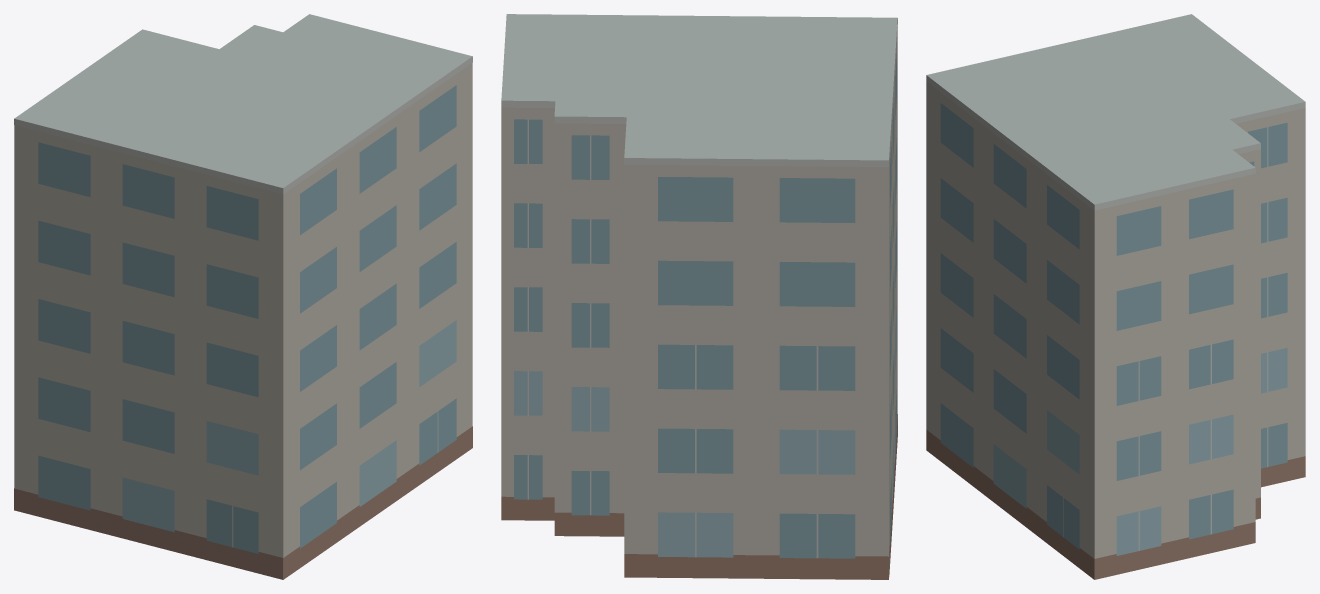
File: survey-upis-32925169.glb
3 renders of one model, left to right at view 1: azimuth 30°, elevation 25°; view 2: azimuth 150°, elevation 25°; view 3: azimuth 270°, elevation 25°, orthographic. The views are drawn at different scales.
Visible parts, largest first — view 1: survey-upis-32925169.tmp; view 2: survey-upis-32925169.tmp; view 3: survey-upis-32925169.tmp.
Boxes of the visible parts, x1,y1,x2,y2 form: survey-upis-32925169.tmp: (14,14,472,579); survey-upis-32925169.tmp: (501,14,897,579); survey-upis-32925169.tmp: (926,14,1305,579).
Size of the model in its own units: 16.68 by 15.3 by 14.03.
